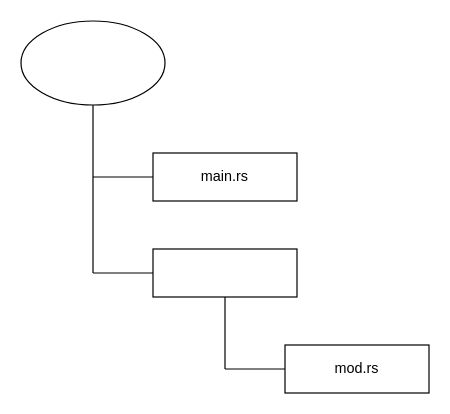
This 450x414 diagram has some shape labels left out. Here are the shapes that lost their labels. From the top down, the centre of each, then its label:
the point at 92,62: tienda_app
the point at 224,272: tienda
